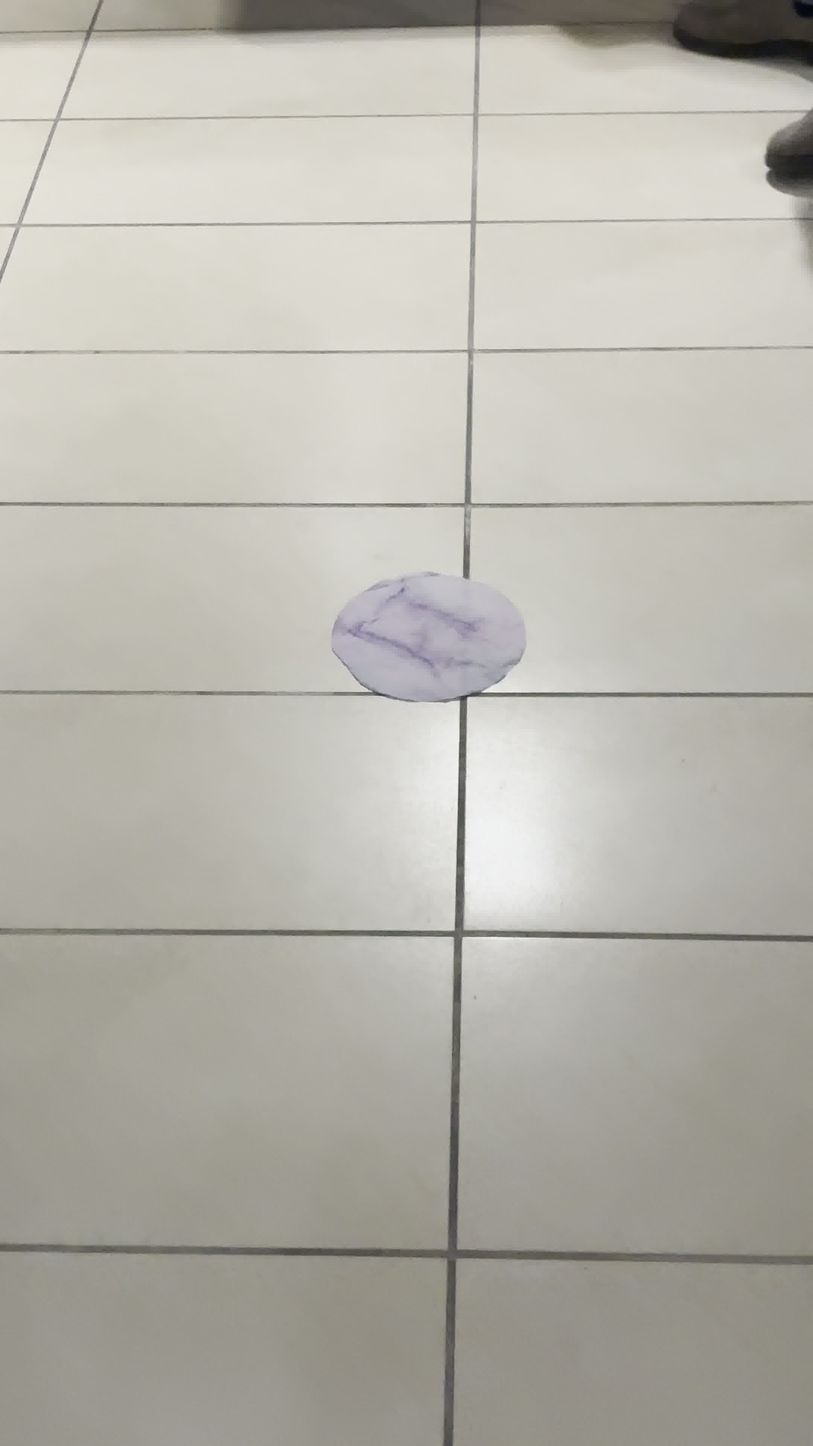Target: (330, 572, 524, 701)
